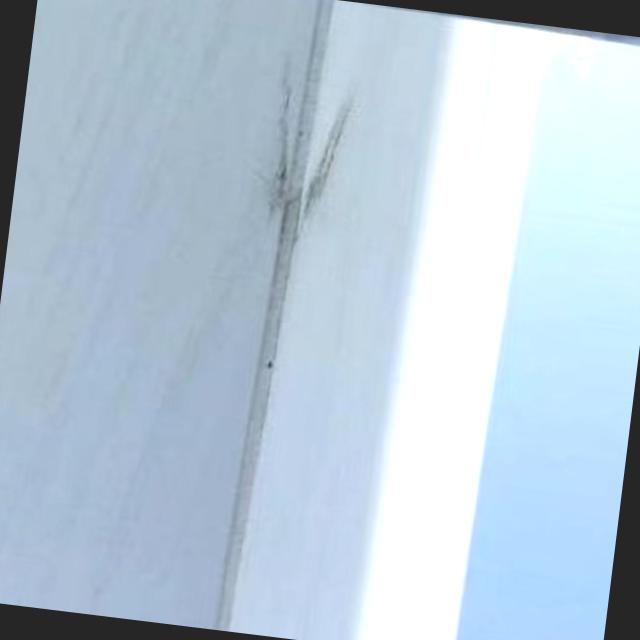crack: (260, 50, 362, 231)
